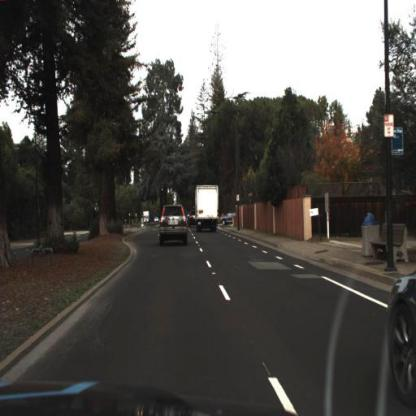car: (378, 250, 416, 412), (156, 199, 192, 257), (191, 181, 225, 235), (221, 210, 237, 231), (154, 216, 159, 223)
truck: (196, 183, 222, 232), (144, 209, 150, 225)
